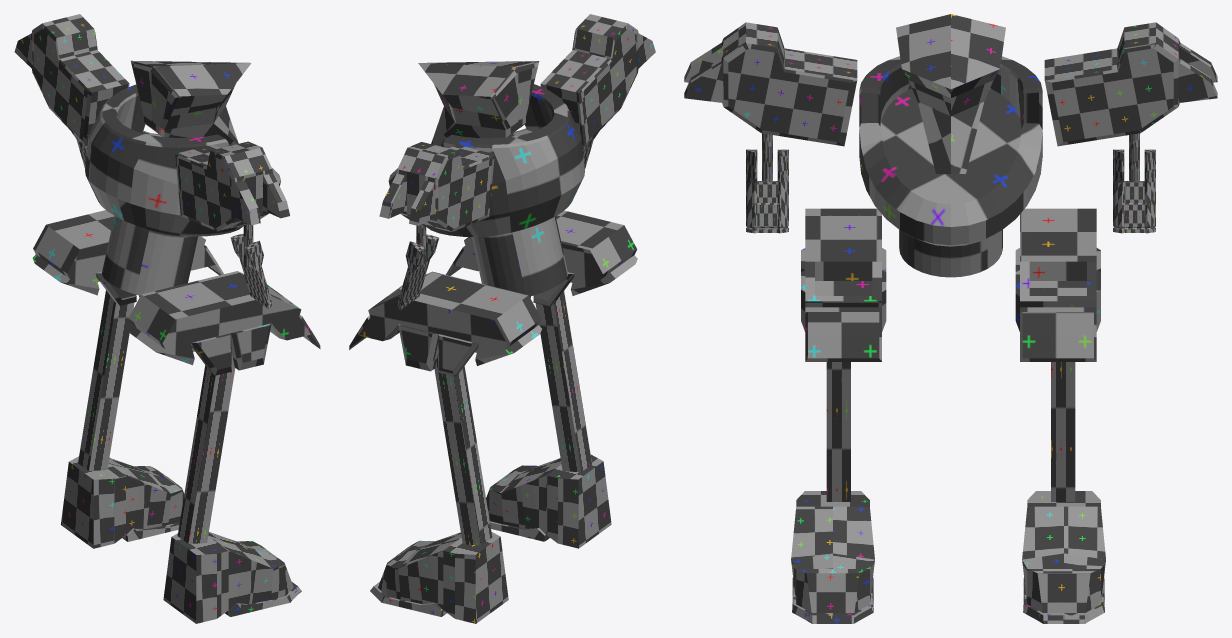
3 renders of one model, left to right at view 1: azimuth 30°, elevation 25°; view 2: azimuth 150°, elevation 25°; view 3: azimuth 270°, elevation 25°, orthographic. The views are drawn at different scales.
Visible parts, largest first — view 1: korpus, biodro_R, stopa_L.001, stopa_L, ramie_L, ramie_R, glowa, biodro_L, Cube.001, Cube, promieniowa_R; view 2: korpus, biodro_L, stopa_L, stopa_L.001, ramie_R, ramie_L, glowa, biodro_R, Cube, Cube.001, promieniowa_L; view 3: korpus, ramie_L, ramie_R, biodro_L, biodro_R, glowa, stopa_L, stopa_L.001, promieniowa_L, promieniowa_R, Cube, Cube.001.
Part boxes in pixels (x1,y1,x2,y2): korpus: (85,84,280,295); biodro_R: (128,271,320,375); stopa_L.001: (163,532,301,623); stopa_L: (61,456,184,548); ramie_L: (14,14,129,146); ramie_R: (175,141,289,231); glowa: (131,60,251,146); biodro_L: (32,210,223,305); Cube.001: (177,353,235,543); Cube: (78,290,134,470); promieniowa_R: (230,224,272,309); korpus: (388,84,584,296); biodro_L: (349,271,541,376); stopa_L: (370,531,508,623); stopa_L.001: (486,454,611,548); ramie_R: (540,14,655,147); ramie_L: (379,142,494,231); glowa: (418,61,539,146); biodro_R: (445,210,637,306); Cube: (434,353,492,545); Cube.001: (535,291,591,472); promieniowa_L: (397,224,439,310); korpus: (859,56,1042,277); ramie_L: (1044,22,1217,146); ramie_R: (684,22,857,146); biodro_L: (1015,208,1100,361); biodro_R: (801,208,886,361); glowa: (896,14,1005,173); stopa_L: (1022,491,1105,623); stopa_L.001: (791,491,874,623); promieniowa_L: (1113,133,1155,233); promieniowa_R: (746,133,788,233); Cube: (1051,362,1075,501); Cube.001: (826,362,850,501).
Size of the model in its own units: 1.89 by 5.06 by 4.35.
Materials: 1 (1 with a texture image).
